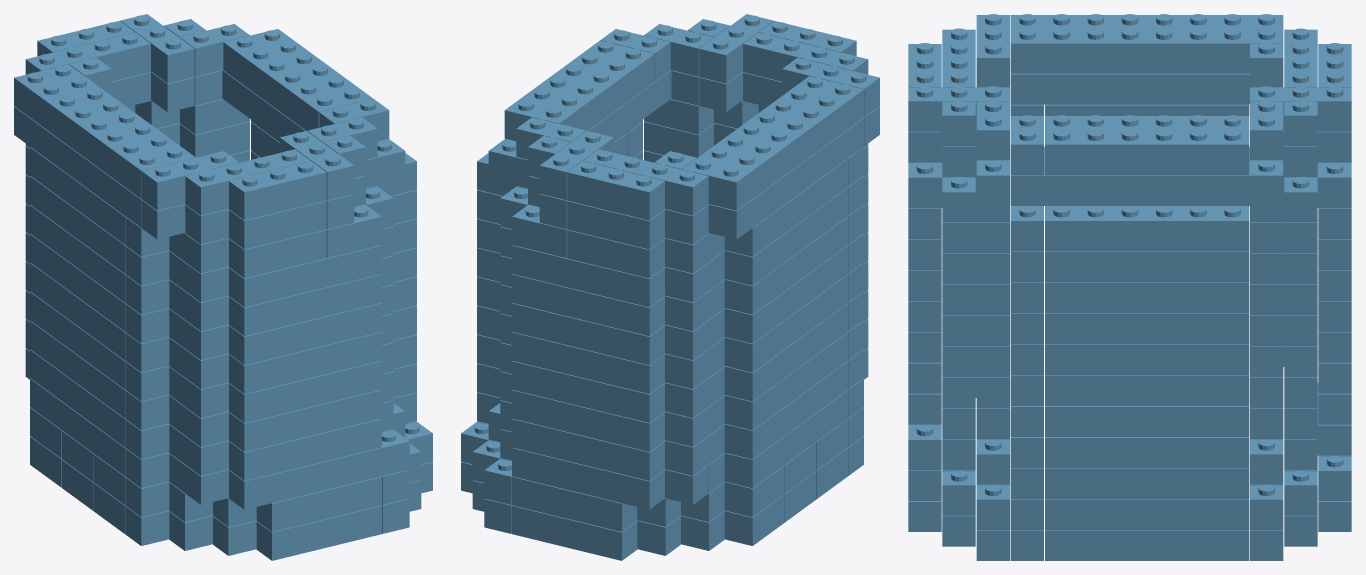
File: 069_bookshelf_L4.glb
The picture shows the model from 3 angles, left to right: view 1: azimuth 30°, elevation 25°; view 2: azimuth 150°, elevation 25°; view 3: azimuth 270°, elevation 25°; orthographic projection. The views are drawn at different scales.
Size of the model in its own units: 9.98 by 13.13 by 12.98.
